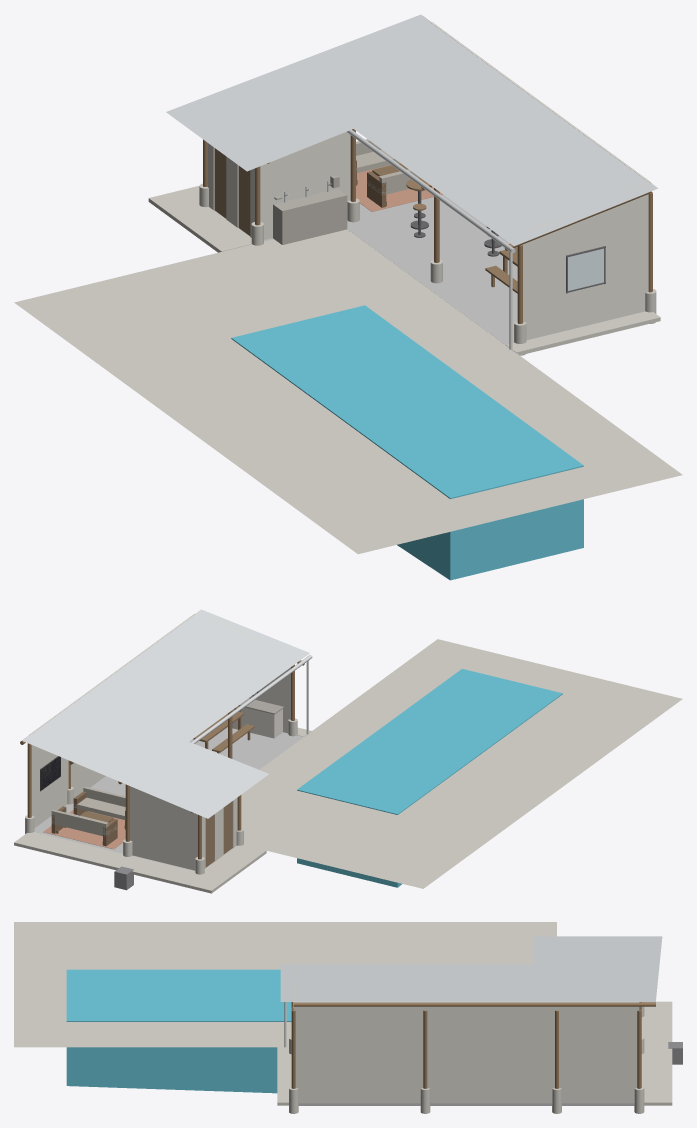
Rendered from quiosque_piscina.dae.
3 views of the same model, one above another, from view 1: azimuth 30°, elevation 25°; view 2: azimuth 150°, elevation 25°; view 3: azimuth 270°, elevation 25° (orthographic). The views are drawn at different scales.
Parts seen in each view (by area): view 1: Piso_Area_Piscina, Telhado_Zinco_L, Piscina_Cortador_Boolean, Piso_Quiosque_L, Parede_Sul_Janela_2, Banheiro_Parede_Sul, Parede_Sul_1_Janela, Piscina_Esmeralda_Casca, Pia_Comunitaria_Corpo, Calcada_Ala_Oeste, Calcada_Sul, Parede_Sul_Peitoril (+4 smaller); view 2: Piso_Area_Piscina, Telhado_Zinco_L, Piscina_Cortador_Boolean, Banheiro_Parede_Norte, Calcada_Norte, Piso_Quiosque_L, Parede_Leste_4_5, Calcada_Ala_Oeste, Bancada_Sul_Alvenaria, Parede_Sul_1_Janela, Sala_Tapete, Parede_Leste_3_4 (+6 smaller); view 3: Piso_Area_Piscina, Telhado_Zinco_L, Piscina_Cortador_Boolean, Parede_Leste_2_3, Parede_Leste_3_4, Piscina_Esmeralda_Casca, Parede_Leste_4_5, Calcada_Norte, Terca_T3_Leste, Piso_Quiosque_L, Calcada_Sul, Calcada_Ala_Oeste.
Part boxes in pixels (x1,y1,x2,y2): Piso_Area_Piscina: [14, 229, 682, 554]; Telhado_Zinco_L: [166, 14, 658, 246]; Piscina_Cortador_Boolean: [231, 305, 583, 579]; Piso_Quiosque_L: [214, 194, 517, 344]; Parede_Sul_Janela_2: [605, 182, 650, 320]; Banheiro_Parede_Sul: [260, 132, 350, 239]; Parede_Sul_1_Janela: [520, 216, 565, 340]; Piscina_Esmeralda_Casca: [397, 499, 583, 580]; Pia_Comunitaria_Corpo: [273, 188, 347, 244]; Calcada_Ala_Oeste: [148, 189, 251, 252]; Calcada_Sul: [506, 311, 660, 355]; Parede_Sul_Peitoril: [566, 284, 605, 330]; Piso_Area_Piscina: [241, 639, 682, 888]; Telhado_Zinco_L: [22, 609, 309, 818]; Piscina_Cortador_Boolean: [297, 669, 562, 886]; Banheiro_Parede_Norte: [130, 786, 197, 870]; Calcada_Norte: [14, 832, 197, 886]; Piso_Quiosque_L: [34, 727, 303, 871]; Parede_Leste_4_5: [29, 706, 69, 828]; Calcada_Ala_Oeste: [184, 845, 266, 893]; Bancada_Sul_Alvenaria: [232, 706, 282, 738]; Parede_Sul_1_Janela: [258, 639, 292, 733]; Sala_Tapete: [43, 810, 125, 849]; Parede_Leste_3_4: [69, 660, 132, 797]; Piso_Area_Piscina: [14, 922, 556, 1047]; Telhado_Zinco_L: [280, 936, 662, 1001]; Piscina_Cortador_Boolean: [66, 969, 291, 1075]; Parede_Leste_2_3: [293, 1001, 425, 1103]; Parede_Leste_3_4: [425, 1001, 556, 1103]; Piscina_Esmeralda_Casca: [66, 1047, 277, 1093]; Parede_Leste_4_5: [557, 1001, 639, 1103]; Calcada_Norte: [641, 1015, 672, 1105]; Terca_T3_Leste: [293, 1002, 655, 1006]; Piso_Quiosque_L: [298, 1103, 634, 1105]; Calcada_Sul: [277, 1047, 291, 1105]; Calcada_Ala_Oeste: [644, 1001, 672, 1015].
Size of the model in its own units: 13.15 by 20.32 by 5.93.
